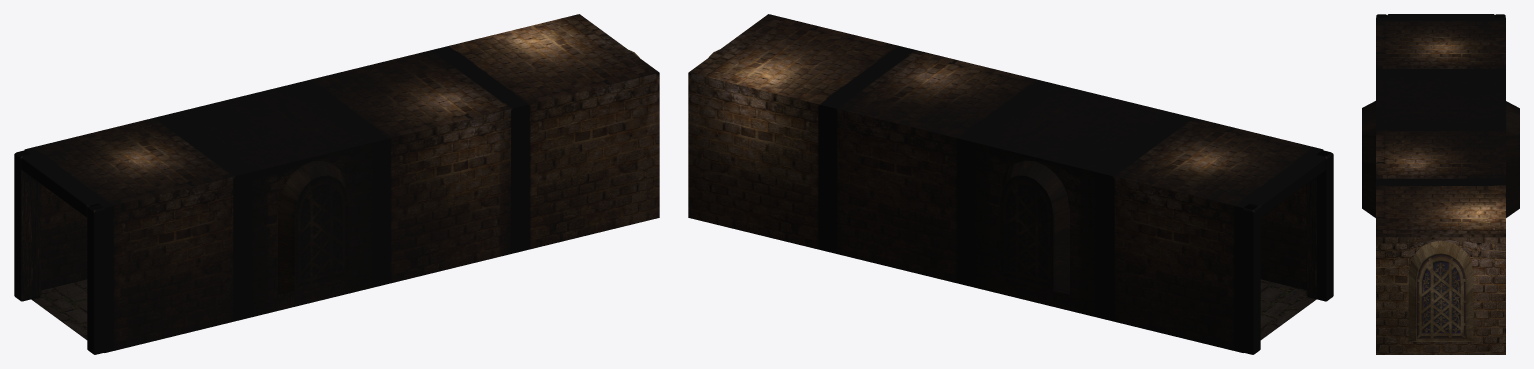
The model's file is castle-baked (1 corredor).fbx.
3 views of the same model, side by side, from view 1: azimuth 30°, elevation 25°; view 2: azimuth 150°, elevation 25°; view 3: azimuth 270°, elevation 25° (orthographic). The views are drawn at different scales.
Visible parts, largest first — view 1: parede1.001, teto1, vigas01, chao1; view 2: parede1.001, teto1, vigas01, chao1; view 3: teto1, parede1, parede1.001, vigas01.
Boxes of the visible parts, x1,y1,x2,y2 form: parede1.001: (41, 72, 659, 352); teto1: (25, 14, 658, 207); vigas01: (14, 150, 104, 354); chao1: (31, 279, 104, 352); parede1.001: (688, 72, 1306, 352); teto1: (689, 14, 1322, 207); vigas01: (1243, 150, 1333, 354); chao1: (1243, 279, 1316, 352); teto1: (1376, 17, 1505, 237); parede1: (1376, 237, 1505, 354); parede1.001: (1362, 101, 1519, 217); vigas01: (1376, 14, 1505, 17).
Size of the model in its own units: 837 by 200 by 243.
